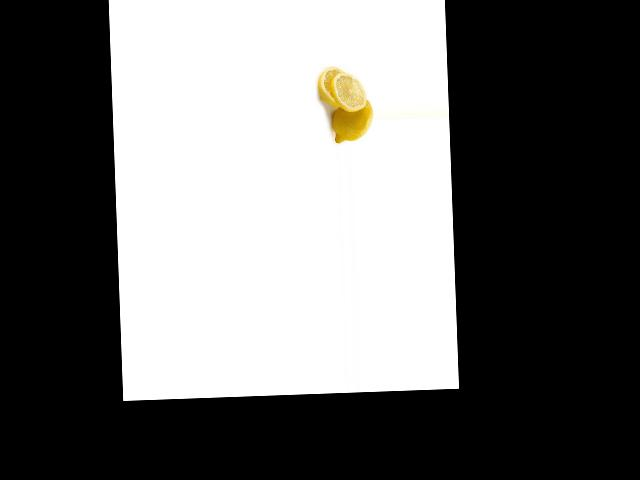lemon: (328, 96, 374, 148)
